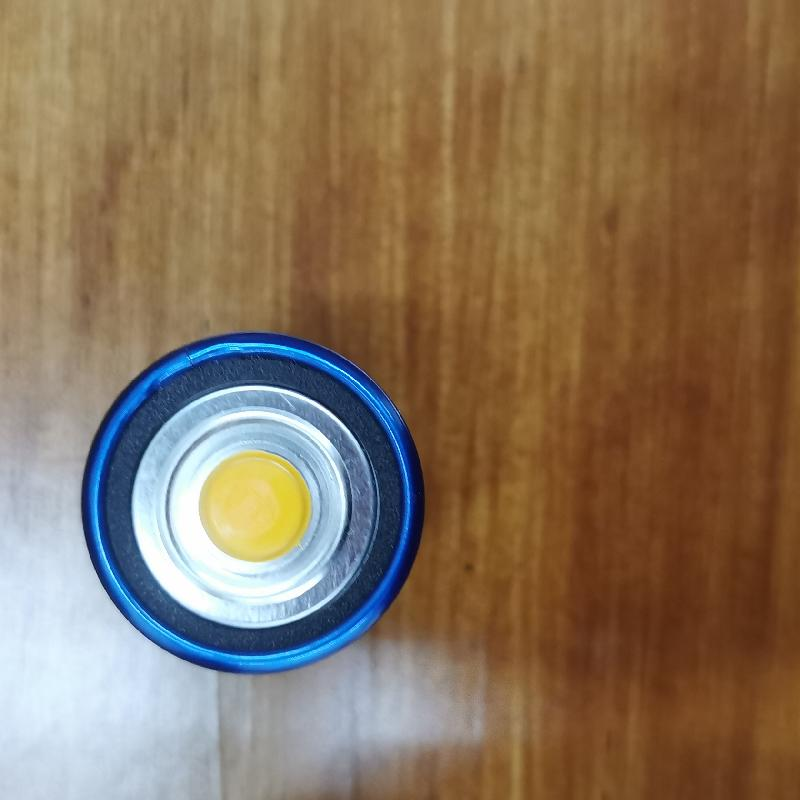battery: (70, 326, 429, 673)
